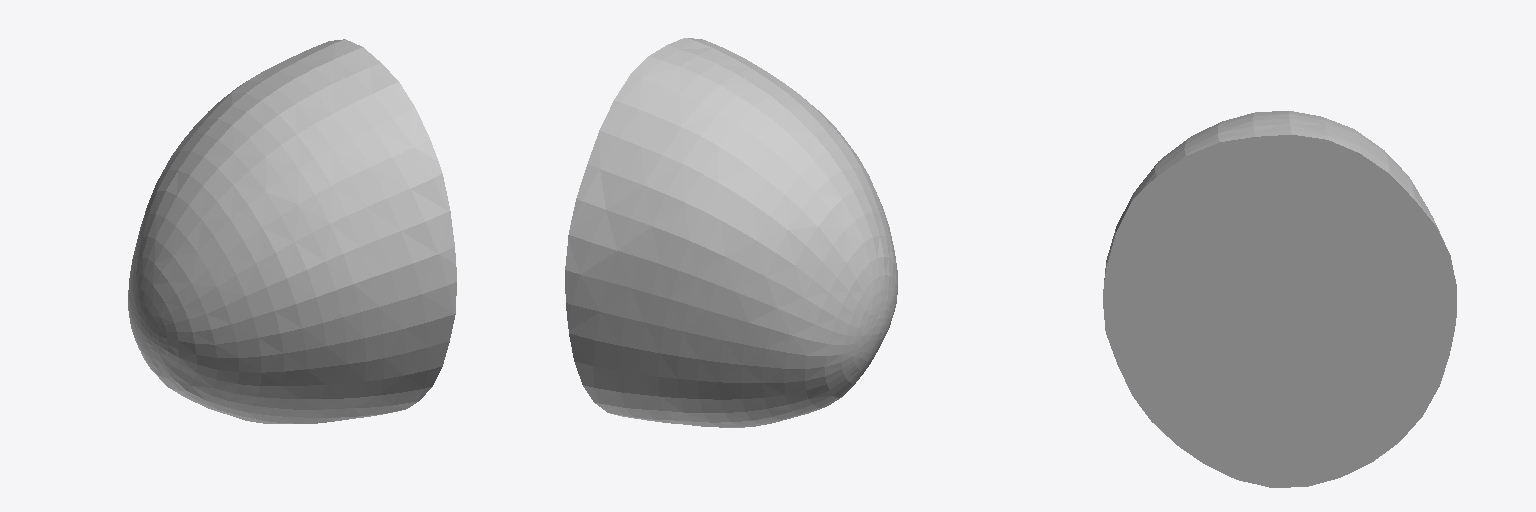
File: mango_cut_2.obj
3 renders of one model, left to right at view 1: azimuth 30°, elevation 25°; view 2: azimuth 150°, elevation 25°; view 3: azimuth 270°, elevation 25°, orthographic.
Visible parts, largest first — view 1: mmGroup0; view 2: mmGroup0; view 3: mmGroup2, mmGroup0.
Boxes of the visible parts, box(x1,y1,x2,y2) form: mmGroup0: box(128, 39, 456, 423); mmGroup0: box(565, 38, 897, 427); mmGroup2: box(1103, 135, 1456, 487); mmGroup0: box(1104, 111, 1444, 279).
Bounding box in the file's own units: 71.26 × 105 × 95.93.